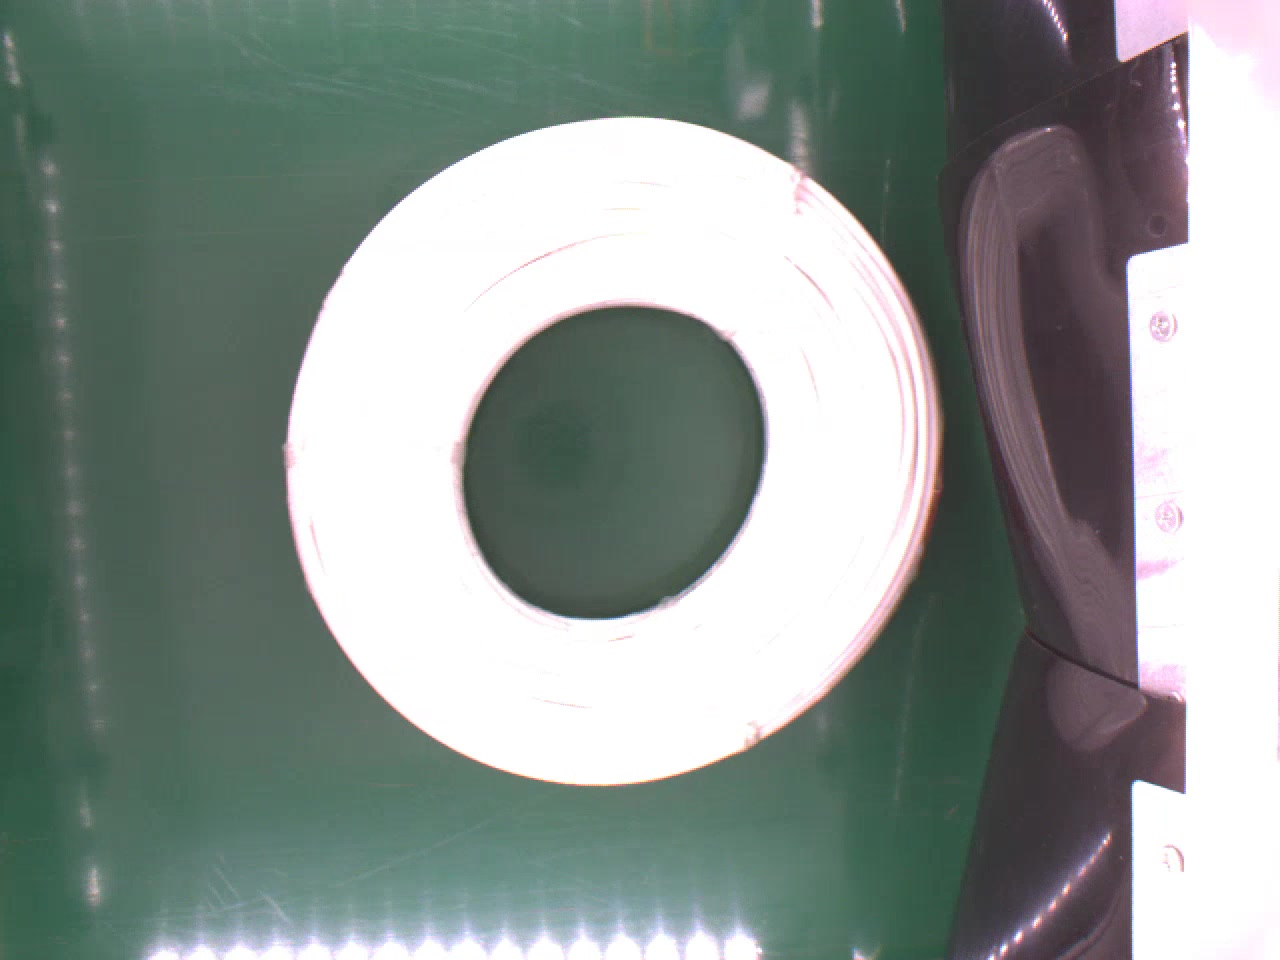white: (272, 111, 961, 798)
